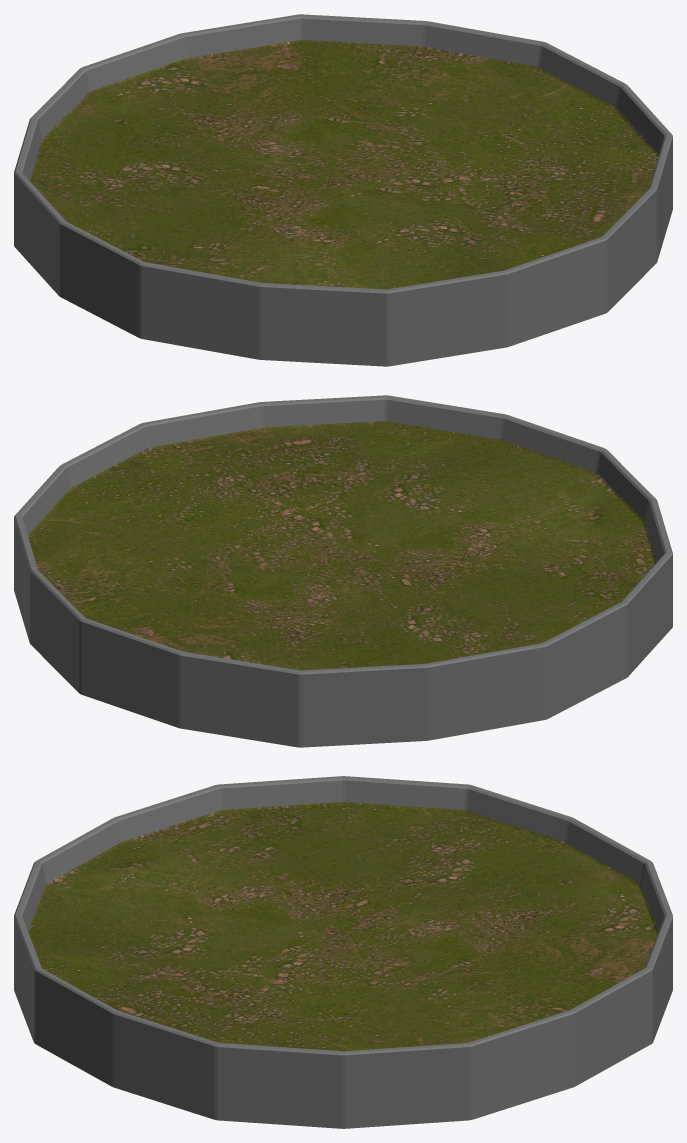
The model's file is Roundabout.fbx.
3 views of the same model, one above another, from view 1: azimuth 30°, elevation 25°; view 2: azimuth 150°, elevation 25°; view 3: azimuth 270°, elevation 25° (orthographic).
Visible parts, largest first — view 1: Roundabout; view 2: Roundabout; view 3: Roundabout.
Part boxes in pixels (x1,y1,x2,y2): Roundabout: [14, 14, 672, 366]; Roundabout: [14, 395, 672, 747]; Roundabout: [14, 776, 672, 1128].
Bounding box in the file's own units: 799 × 100 × 799.
